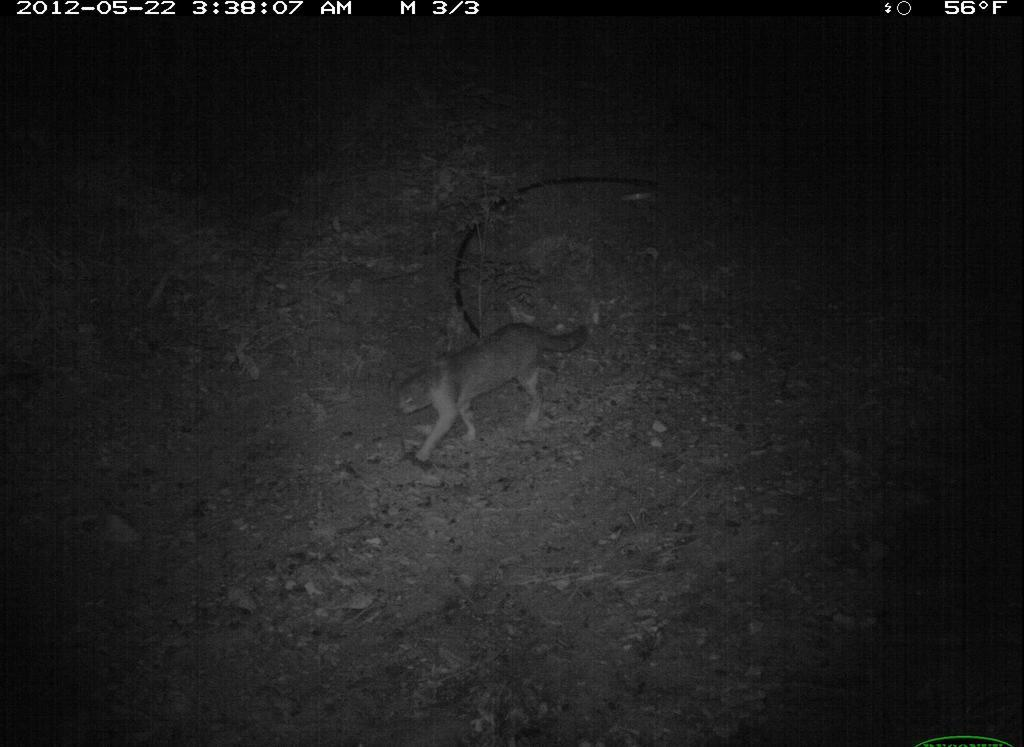cat: (383, 308, 604, 474)
